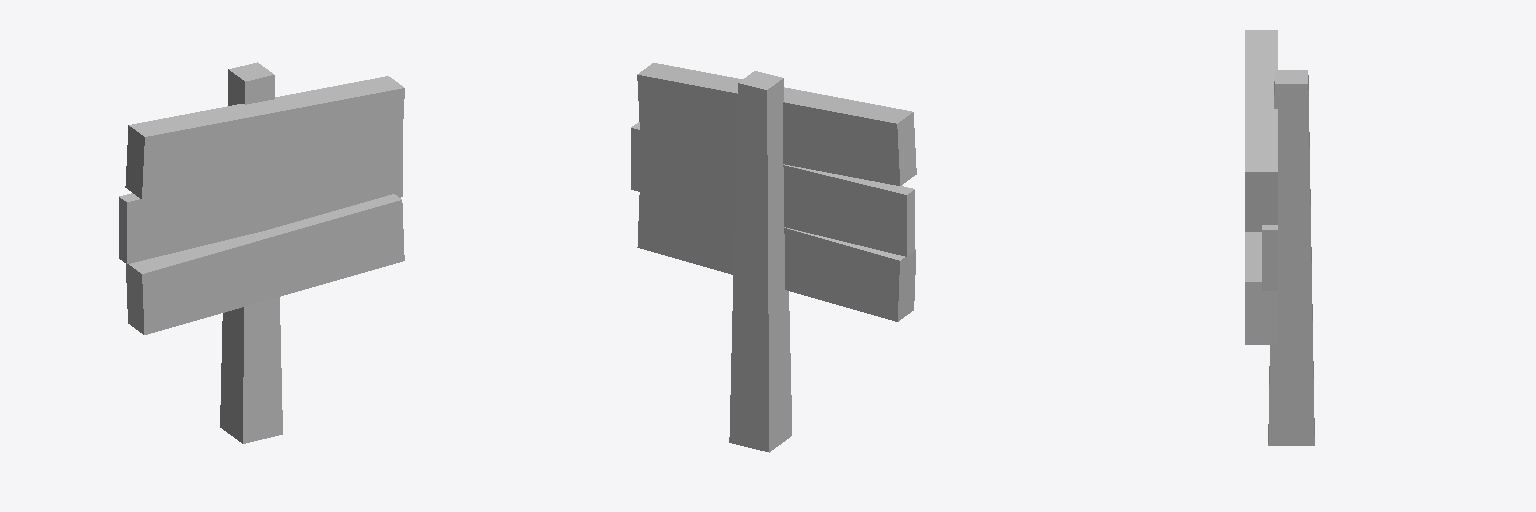
File: sign.obj
3 renders of one model, left to right at view 1: azimuth 30°, elevation 25°; view 2: azimuth 150°, elevation 25°; view 3: azimuth 270°, elevation 25°, orthographic.
Parts seen in each view (by area): view 1: sign; view 2: sign; view 3: sign.
Part boxes in pixels (x1,y1,x2,y2): sign: (119, 62, 404, 443); sign: (631, 63, 916, 452); sign: (1245, 30, 1314, 445).
Bounding box in the file's own units: 0.4835 × 0.6 × 0.105.